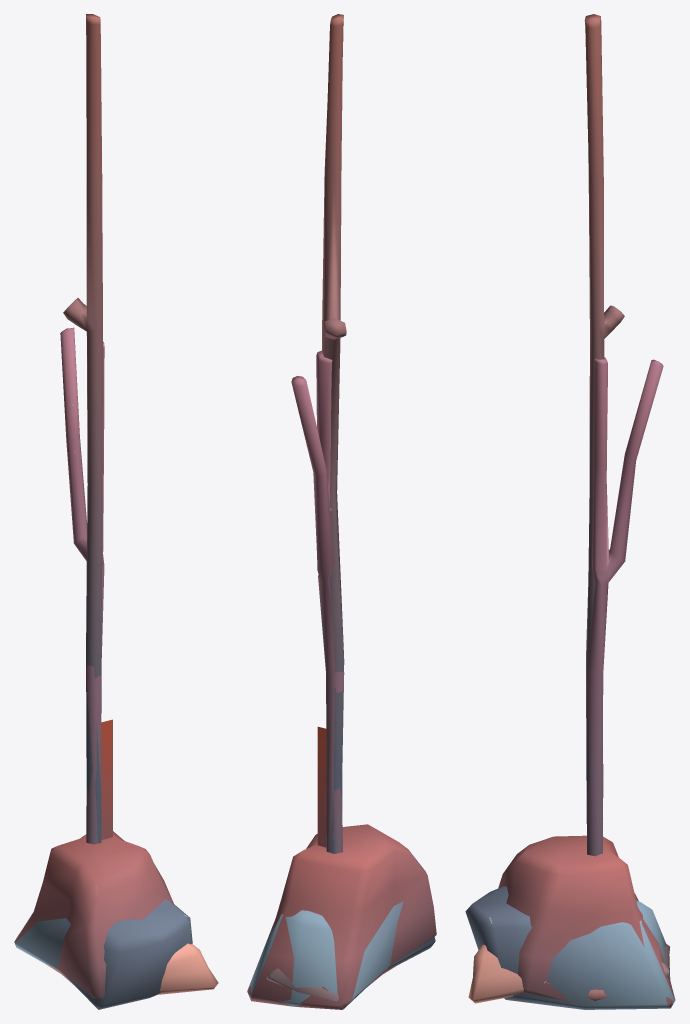
File: Utility.fbx
3 renders of one model, left to right at view 1: azimuth 30°, elevation 25°; view 2: azimuth 150°, elevation 25°; view 3: azimuth 270°, elevation 25°, orthographic.
Parts seen in each view (by area): view 1: Utility_Brick 3, Utility_Stick 1, Utility_Brick, Utility_Stick 2, Utility_Brick 2, Utility_Straw; view 2: Utility_Brick 3, Utility_Stick 1, Utility_Stick 2, Utility_Brick, Utility_Straw, Utility_Brick 2; view 3: Utility_Brick 3, Utility_Brick, Utility_Stick 2, Utility_Stick 1, Utility_Brick 2.
Part boxes in pixels (x1,y1,x2,y2): Utility_Brick 3: (14, 831, 173, 999); Utility_Stick 1: (63, 14, 102, 843); Utility_Brick: (15, 899, 192, 1009); Utility_Stick 2: (60, 327, 104, 844); Utility_Brick 2: (18, 934, 218, 994); Utility_Straw: (101, 719, 112, 839); Utility_Brick 3: (247, 824, 436, 1009); Utility_Stick 1: (322, 14, 346, 853); Utility_Stick 2: (291, 350, 344, 853); Utility_Brick: (247, 901, 435, 1009); Utility_Straw: (317, 726, 326, 847); Utility_Brick 2: (266, 964, 398, 1001); Utility_Brick 3: (498, 835, 675, 1009); Utility_Brick: (465, 886, 674, 1009); Utility_Stick 2: (586, 357, 663, 856); Utility_Stick 1: (584, 14, 624, 854); Utility_Brick 2: (468, 944, 669, 1003).
Size of the model in its own units: 37.29 by 292 by 57.37.
